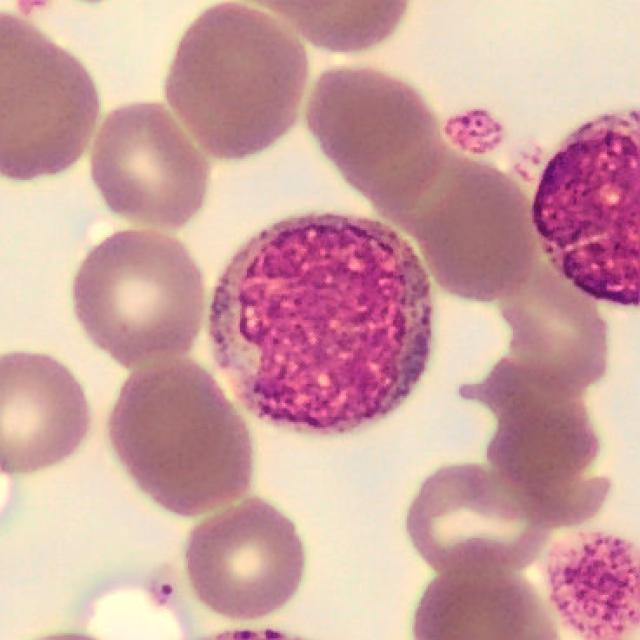Mielocito: (205, 214, 435, 434)
